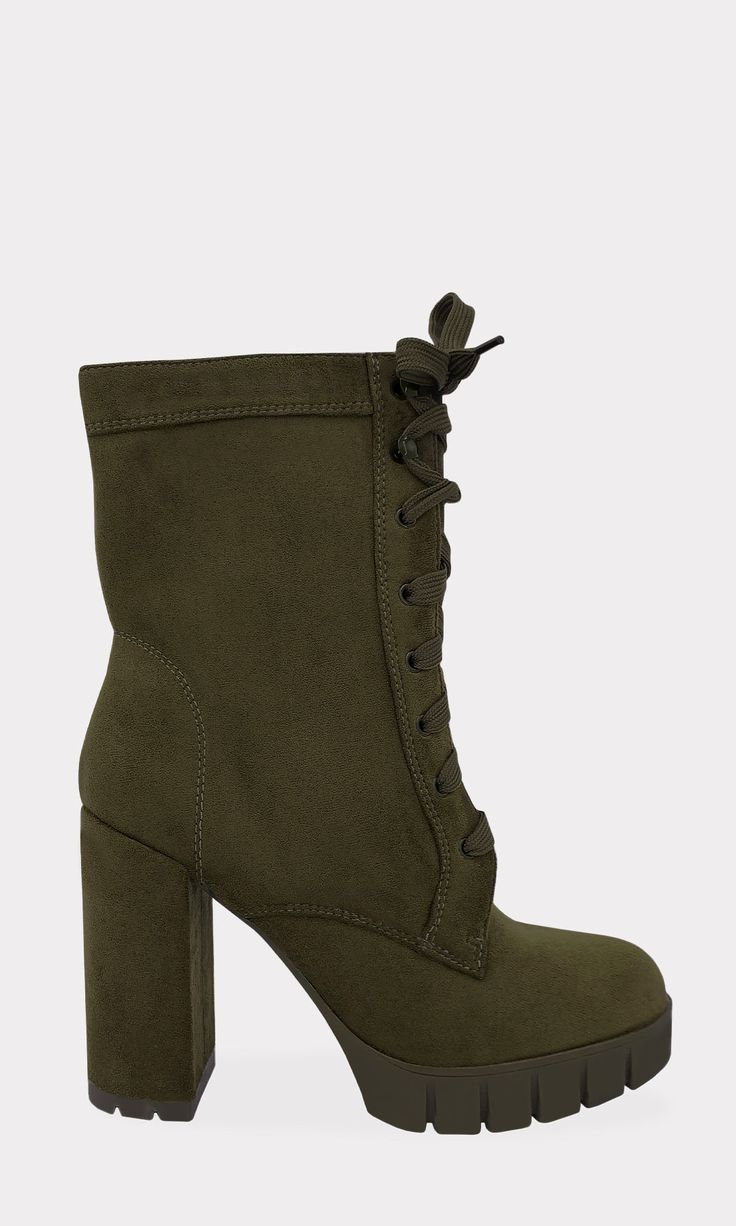gamuza: (81, 351, 668, 1096)
